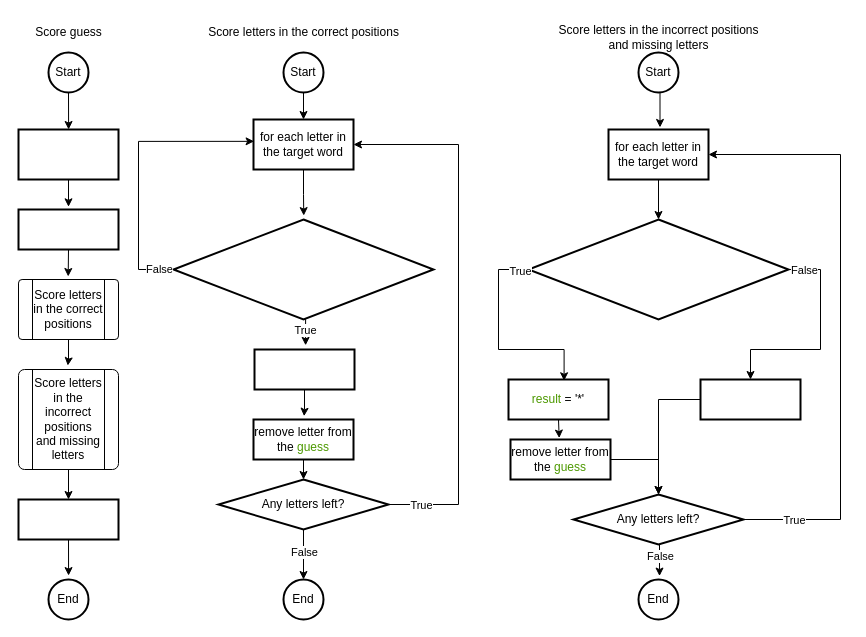
Image size: 866x637. Some labels were removed from this diagram. The box of each missing label's shape, as (x1, y1, x2, y2) in pixels:
create a list guess out of target word: (17, 208, 119, 250)
create result list filled in by spaces as elements: (17, 128, 119, 180)
letter is inside guess?: (527, 218, 789, 320)
letter of guess word = letter of target?: (172, 218, 434, 320)
result = '-': (699, 378, 801, 420)
result = letter: (253, 348, 355, 390)
Return result: (17, 498, 119, 540)
